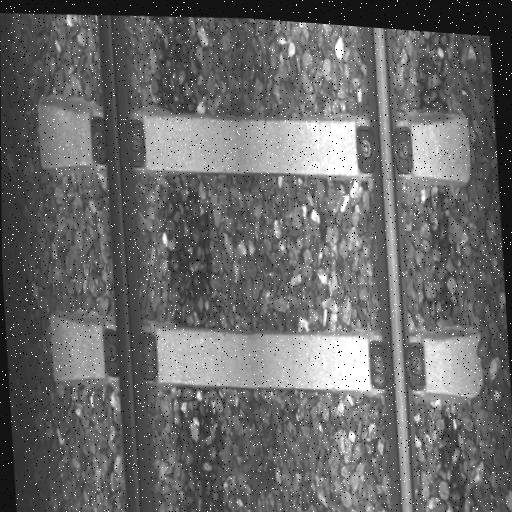clips: (355, 119, 416, 180), (368, 339, 427, 393), (88, 113, 143, 165), (106, 325, 157, 377)
sleepers: (47, 285, 485, 434), (35, 76, 472, 215)
